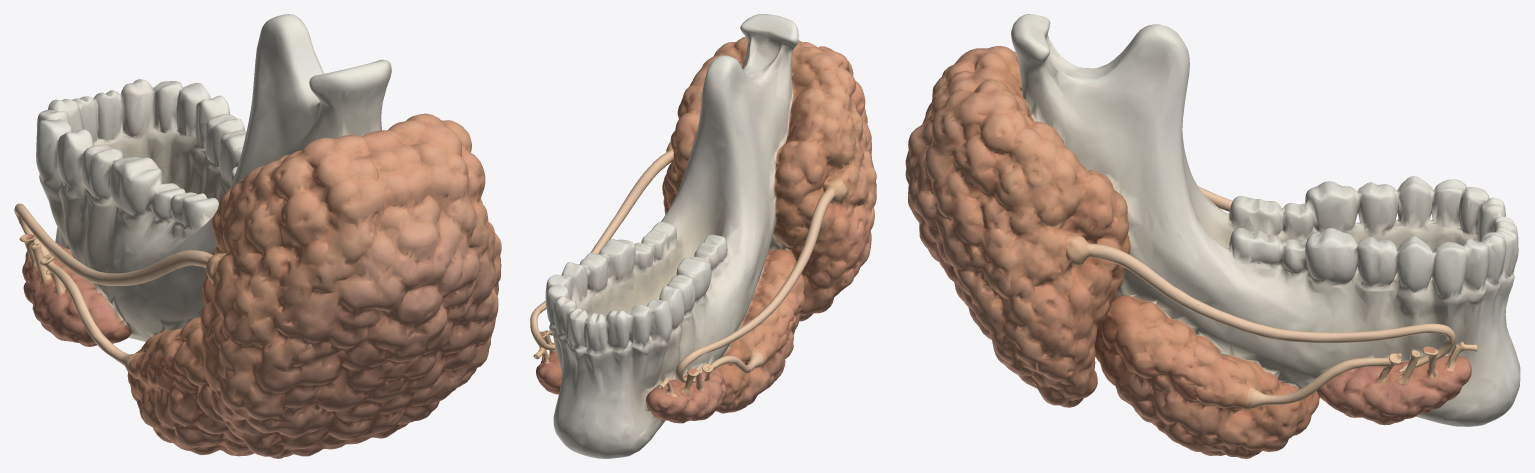
The model's file is salivary-glands.glb.
3 renders of one model, left to right at view 1: azimuth 30°, elevation 25°; view 2: azimuth 150°, elevation 25°; view 3: azimuth 270°, elevation 25°, orthographic. The views are drawn at different scales.
Parts seen in each view (by area): view 1: tripo_node_7a79552b-4065-442d-8c62-3f040ebdae52; view 2: tripo_node_7a79552b-4065-442d-8c62-3f040ebdae52; view 3: tripo_node_7a79552b-4065-442d-8c62-3f040ebdae52.
Boxes of the visible parts, left/top/right/bottom form: tripo_node_7a79552b-4065-442d-8c62-3f040ebdae52: left=14, top=14, right=501, bottom=458; tripo_node_7a79552b-4065-442d-8c62-3f040ebdae52: left=530, top=14, right=876, bottom=458; tripo_node_7a79552b-4065-442d-8c62-3f040ebdae52: left=905, top=14, right=1520, bottom=458.
Size of the model in its own units: 0.4699 by 0.7513 by 0.9999.
1 material, 1 textured.
